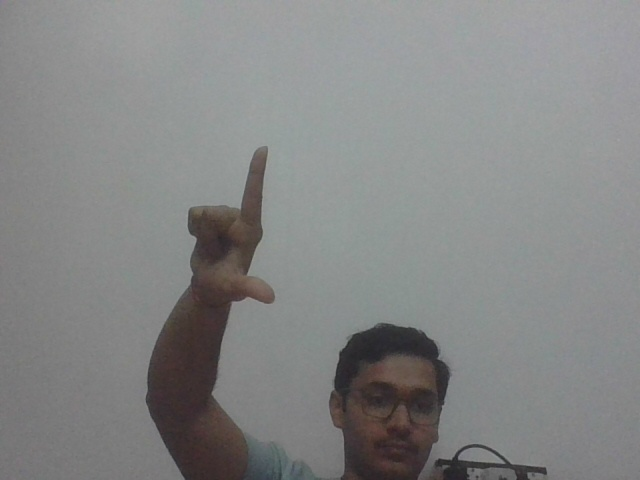L: (184, 140, 288, 311)
